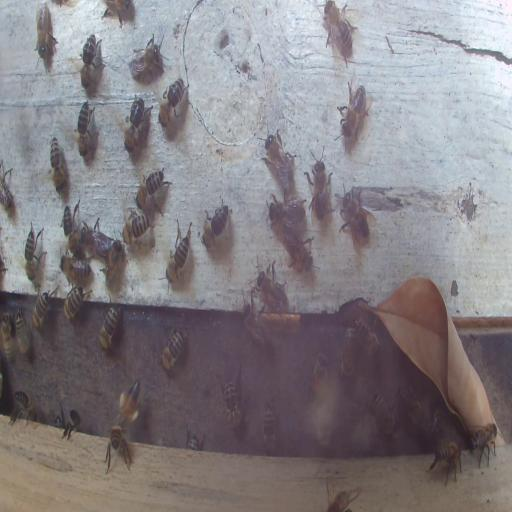nonpollenbee: (334, 76, 373, 150), (321, 0, 358, 64), (336, 184, 374, 244), (304, 143, 332, 224), (263, 127, 295, 187), (166, 217, 193, 288), (303, 348, 328, 424), (428, 437, 463, 488), (136, 166, 172, 215), (200, 200, 232, 254), (128, 33, 164, 79), (74, 98, 98, 166), (123, 94, 147, 158), (80, 33, 104, 96), (23, 220, 46, 284), (240, 300, 268, 352), (470, 420, 500, 468), (256, 266, 288, 311), (354, 312, 382, 362), (158, 80, 188, 126), (396, 383, 425, 430), (104, 424, 132, 472), (283, 230, 312, 276), (35, 1, 56, 63), (82, 217, 111, 258), (371, 390, 397, 433), (160, 326, 184, 371), (98, 305, 121, 350), (122, 211, 150, 246), (222, 374, 240, 428), (270, 198, 302, 228), (338, 326, 356, 378), (31, 290, 53, 332), (62, 205, 80, 256), (49, 136, 65, 193), (103, 241, 124, 284), (60, 253, 90, 283), (10, 391, 37, 424), (63, 284, 88, 319), (262, 398, 276, 454), (0, 160, 15, 210), (16, 307, 30, 357), (1, 311, 14, 364), (62, 406, 82, 439), (51, 410, 62, 428)
pollenbee: (116, 378, 141, 430)
